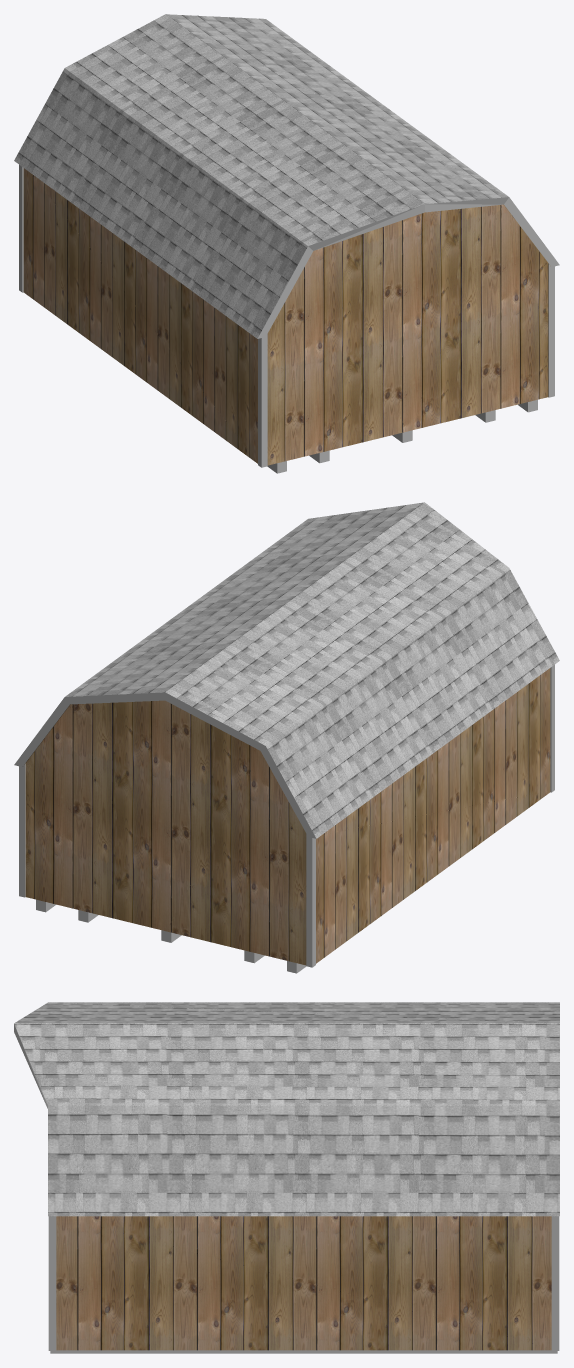
Rendered from Mini Barn Sheds_10x14.obj.
3 renders of one model, top to bottom at view 1: azimuth 30°, elevation 25°; view 2: azimuth 150°, elevation 25°; view 3: azimuth 270°, elevation 25°, orthographic. The views are drawn at different scales.
Parts seen in each view (by area): view 1: Shed, Roof, Sides, Trim, Floor; view 2: Shed, Roof, Sides, Trim, Floor; view 3: Roof, Shed, Trim, Floor.
Boxes of the visible parts, <box> form: Shed: <box>23,168,549,465</box>; Roof: <box>14,14,508,338</box>; Sides: <box>257,197,559,338</box>; Trim: <box>19,165,554,467</box>; Floor: <box>267,399,537,473</box>; Shed: <box>24,668,550,965</box>; Roof: <box>65,502,559,838</box>; Sides: <box>14,692,316,838</box>; Trim: <box>19,664,554,967</box>; Floor: <box>36,899,306,973</box>; Roof: <box>14,1002,559,1216</box>; Shed: <box>56,1216,551,1350</box>; Trim: <box>48,1216,559,1350</box>; Floor: <box>50,1350,557,1353</box>.
Bounding box in the file's own units: 3.09 × 2.44 × 4.59.
